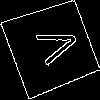V: (26, 22, 81, 70)
